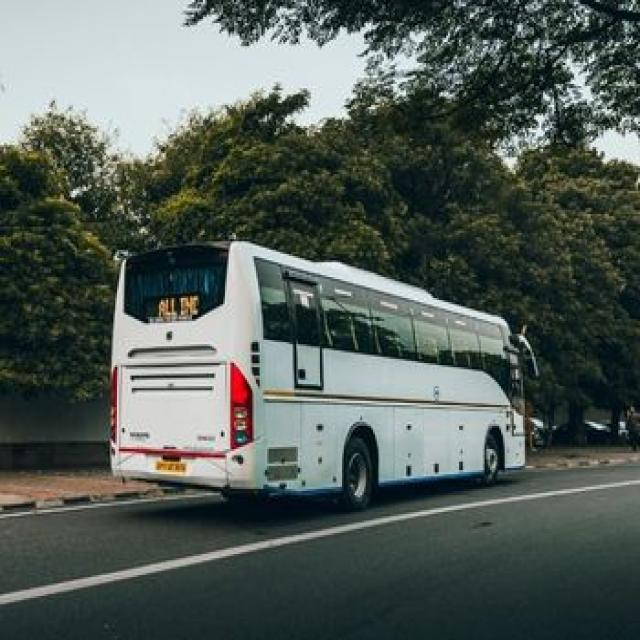bus: (108, 241, 528, 512)
